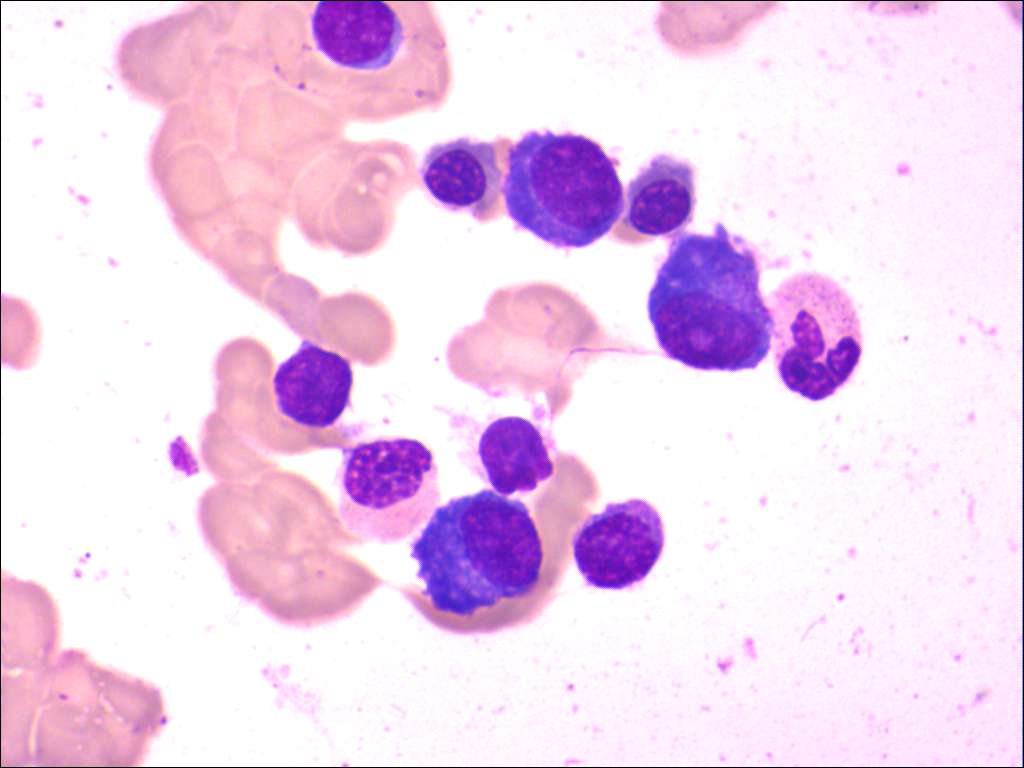23: (624, 150, 700, 243), (414, 133, 502, 212)
32: (569, 495, 667, 593), (269, 335, 355, 430), (309, 1, 408, 74)
5: (329, 431, 443, 547)
51: (645, 219, 779, 376), (407, 486, 547, 619), (500, 124, 628, 253)
6: (764, 267, 867, 405)
x: (472, 410, 561, 497)
